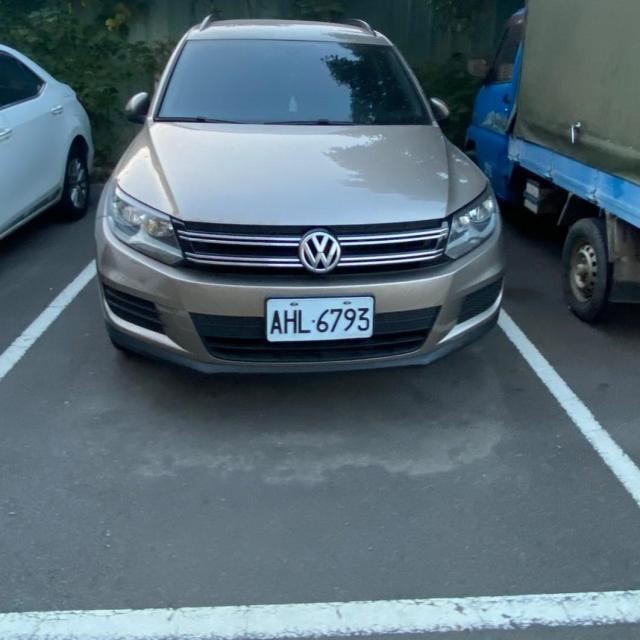W: (253, 289, 380, 350)
